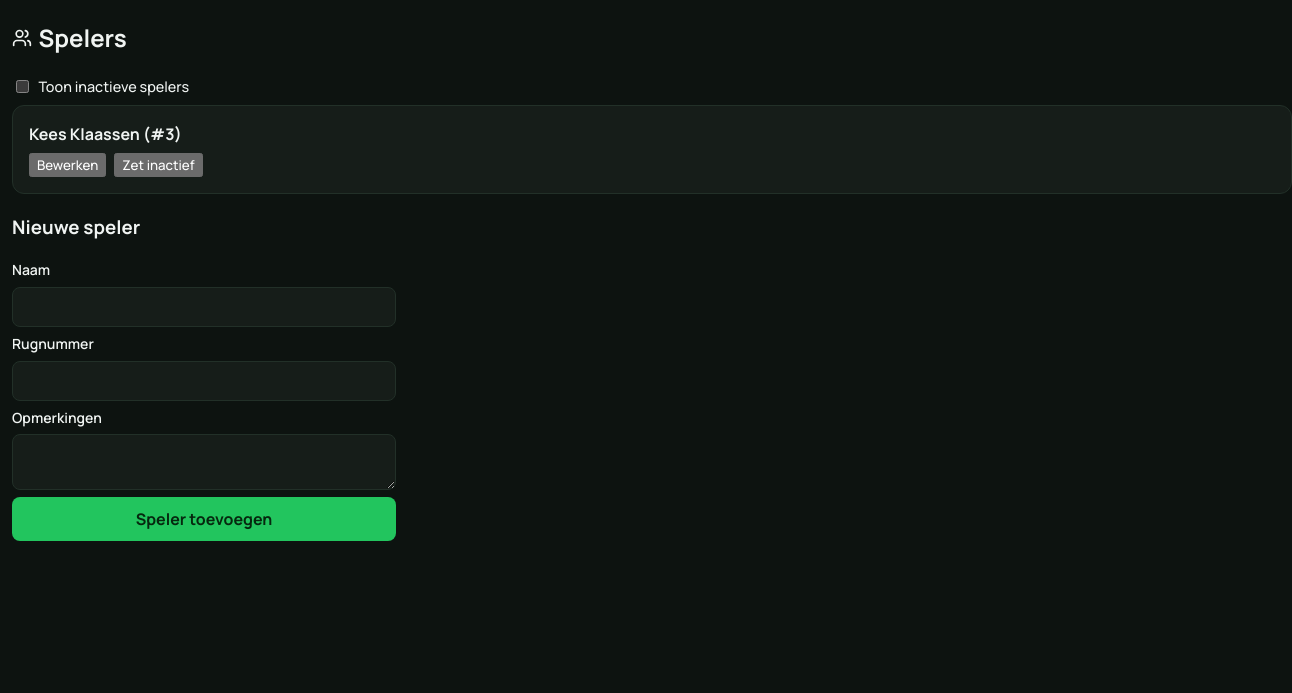
Test: PlayerListScreen › edits an existing player and shows the updated fields
Expected: the text "Kees Klaassen (#3)" is shown, [29, 123, 182, 145]
Click the button "Bewerken": point(68, 165) [29, 153, 106, 177]
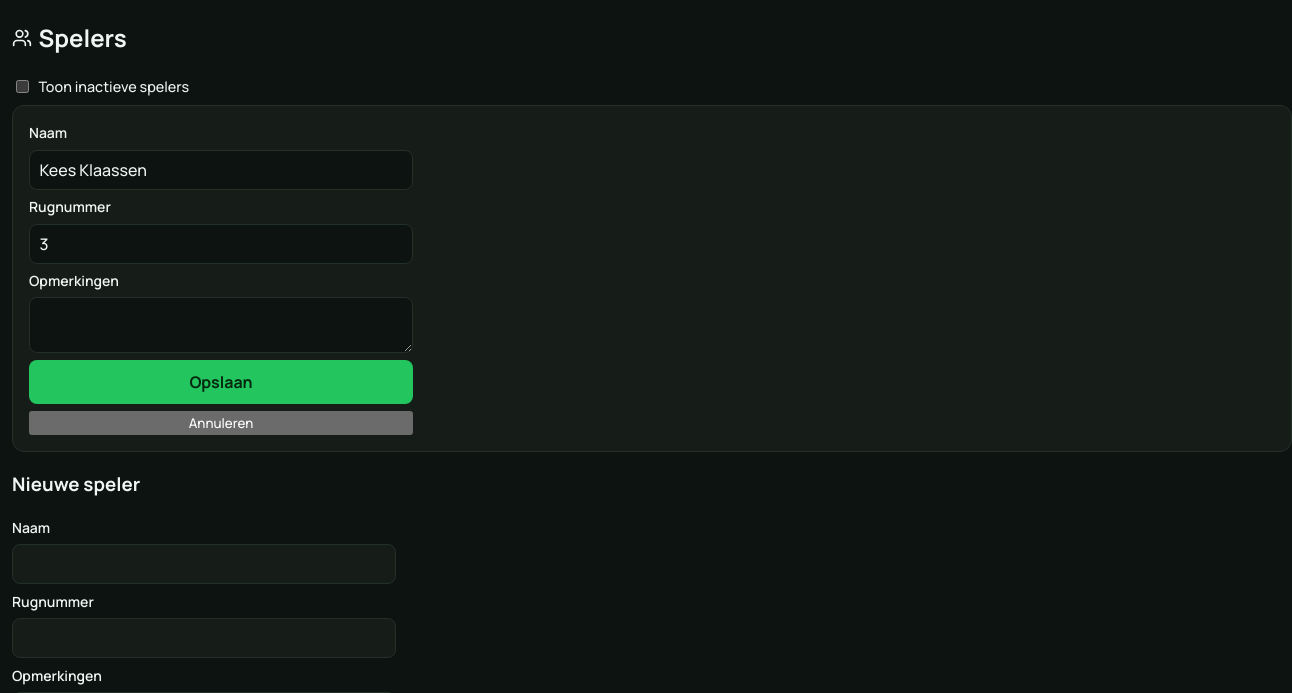
Replace the text in the 1st field labelled "Naam" with "Kees K.": point(221, 170) [29, 150, 413, 190]
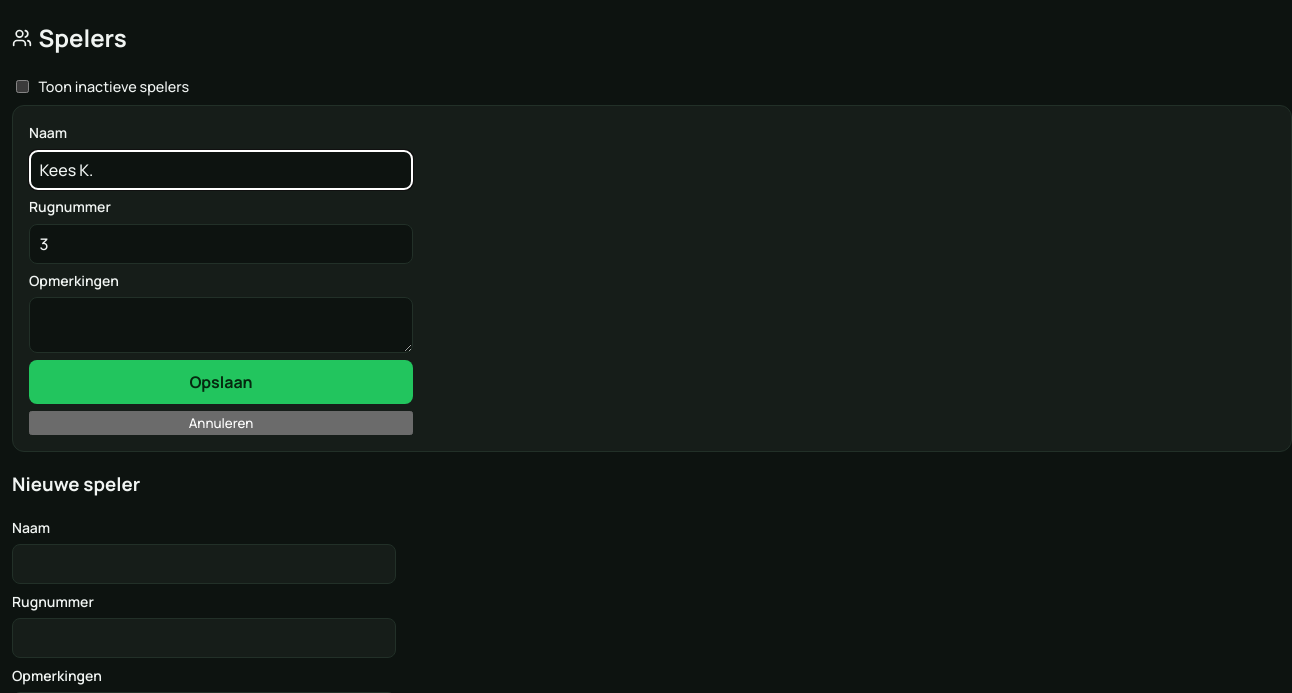
Replace the text in the 1st number field labelled "Rugnummer" with "7": point(221, 244) [29, 224, 413, 264]
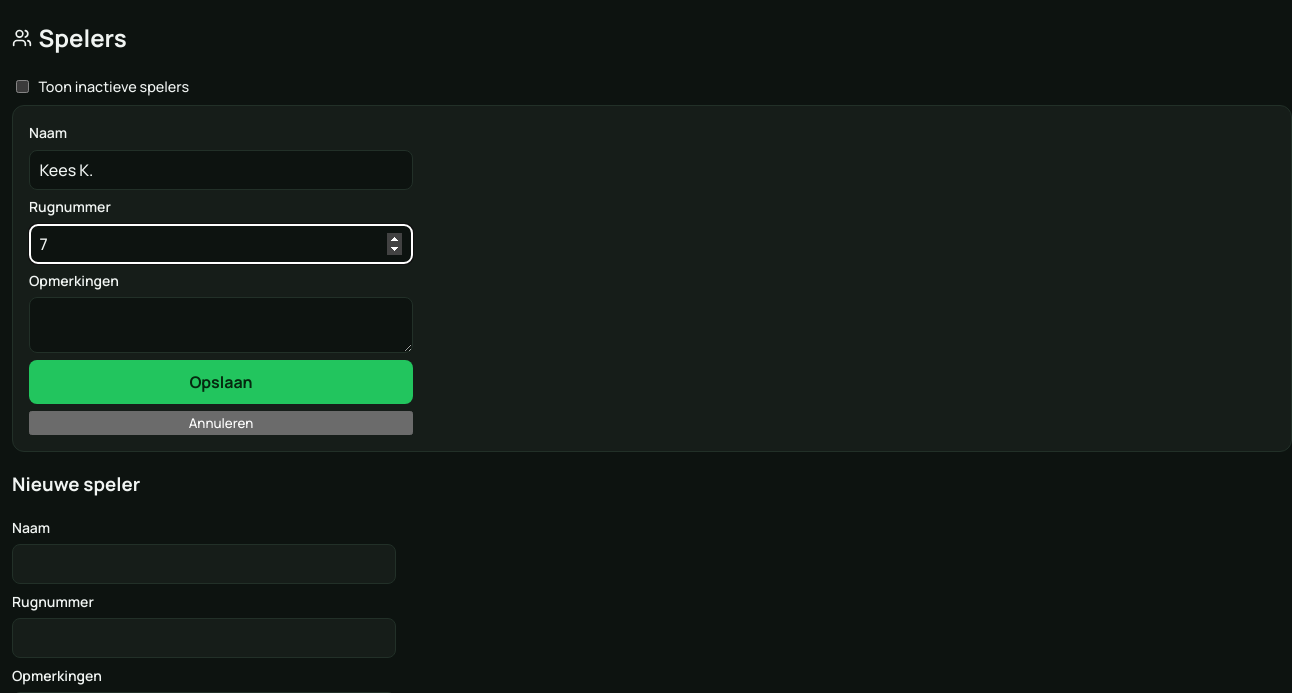
Click the button "Opslaan": point(221, 382) [29, 360, 413, 404]
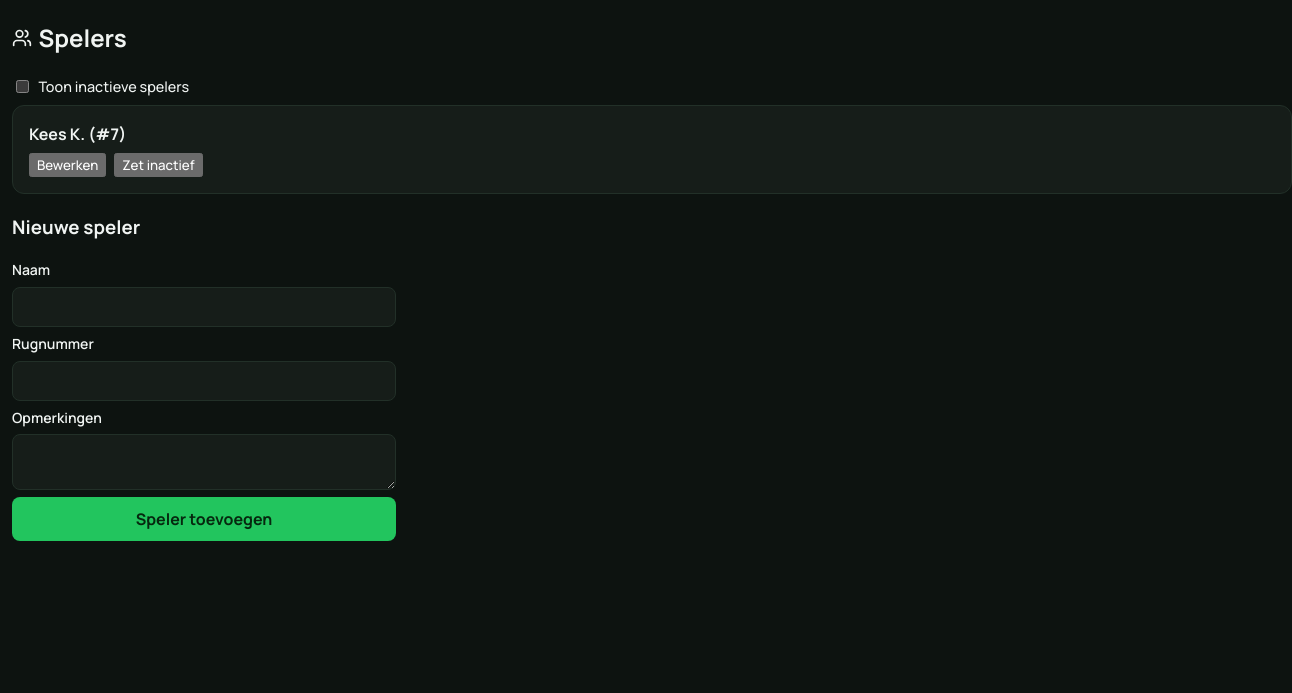
Expected: the text "Kees K. (#7)" is shown, [29, 123, 126, 145]
